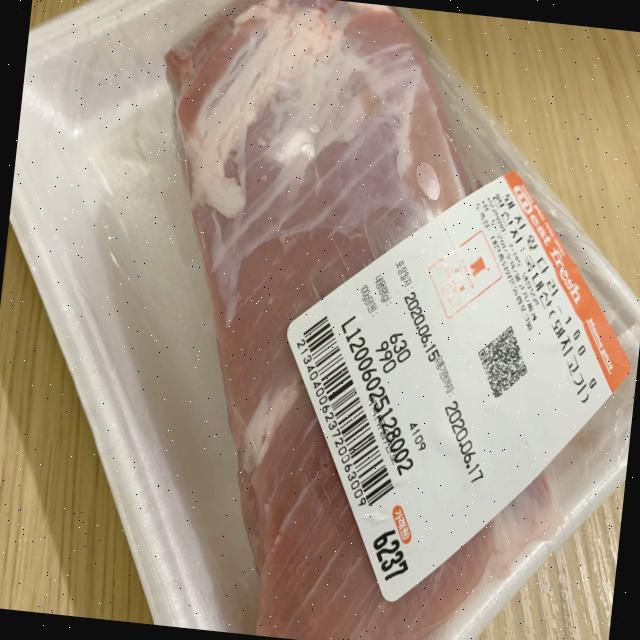meat: (91, 0, 599, 640)
